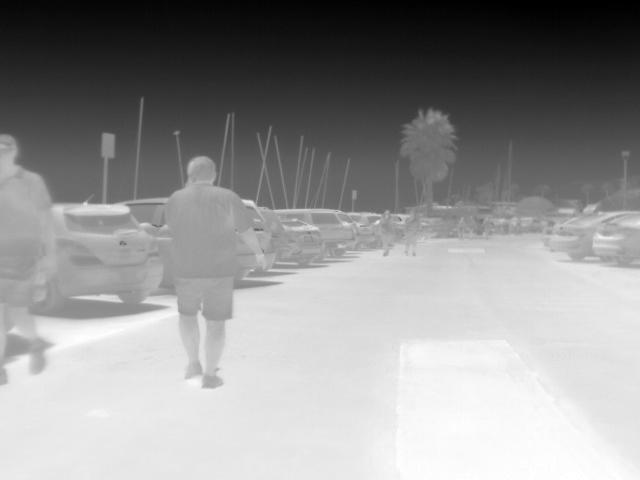car: (32, 202, 164, 306), (267, 206, 357, 262), (548, 210, 627, 262), (238, 196, 277, 286), (120, 195, 168, 249), (594, 209, 639, 265), (280, 216, 324, 270), (542, 214, 579, 243), (351, 220, 374, 246)
person: (164, 154, 270, 388), (1, 132, 60, 387), (377, 206, 397, 256), (405, 209, 421, 258)
